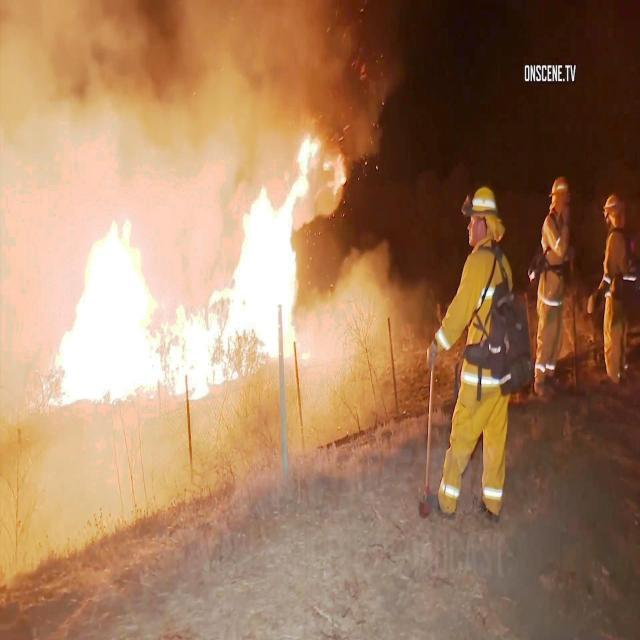Fire: (32, 215, 210, 391), (216, 120, 334, 376)
Smoke: (4, 0, 214, 217)
